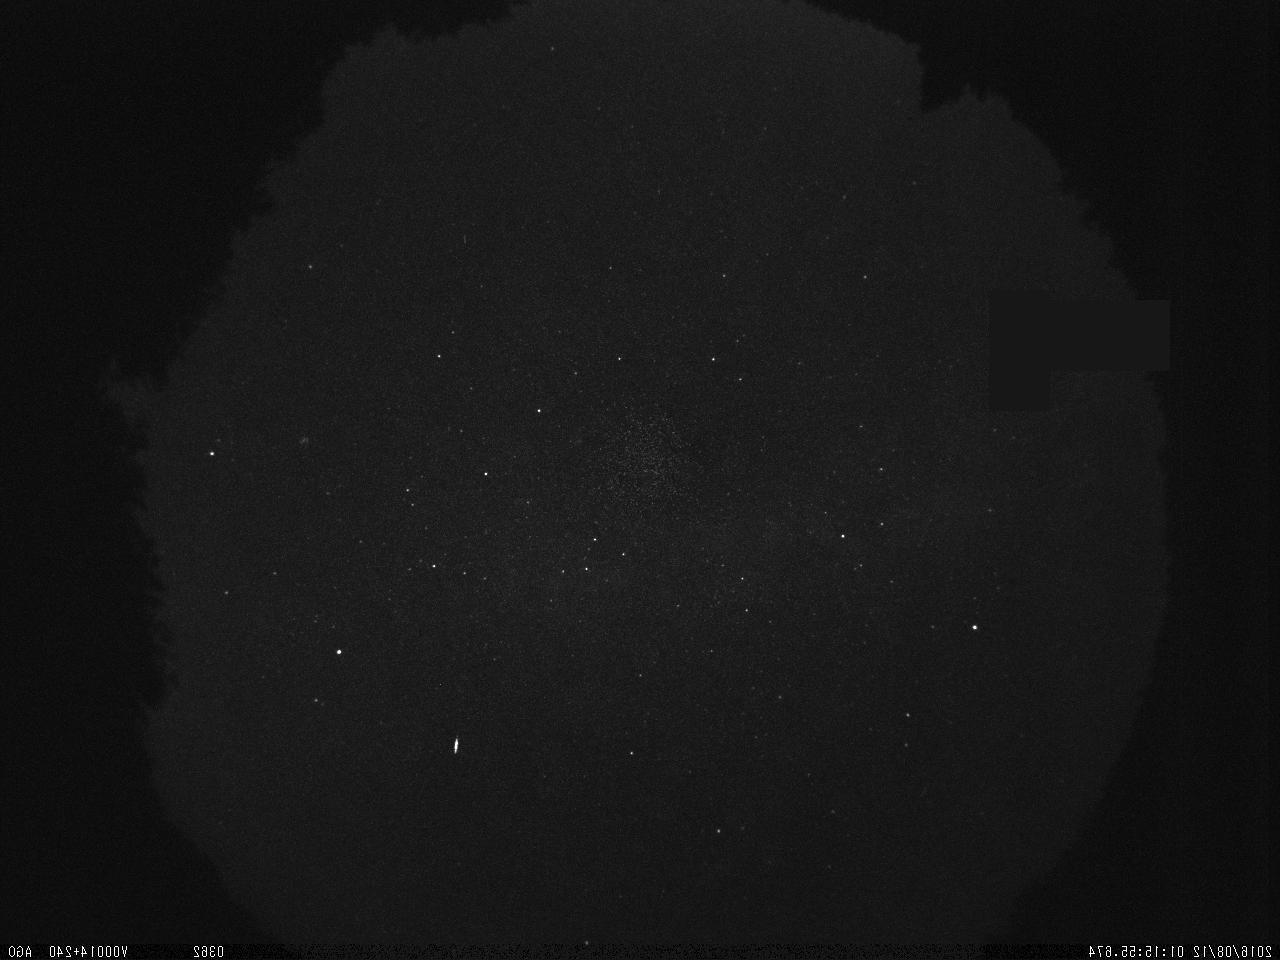meteor: (446, 733, 464, 759)
